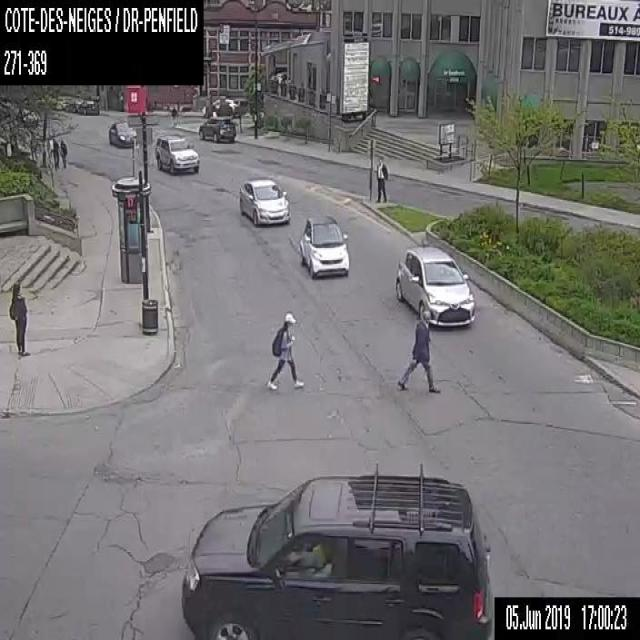pedestrian: (396, 309, 442, 395), (266, 310, 306, 390), (8, 280, 29, 356), (375, 158, 387, 202), (53, 139, 59, 169), (60, 139, 66, 167), (171, 106, 176, 126)
vehicle: (179, 460, 494, 639), (395, 243, 476, 327), (299, 214, 349, 279), (238, 176, 291, 225), (153, 134, 199, 174), (198, 114, 236, 142), (108, 119, 136, 148), (202, 94, 238, 116), (78, 98, 99, 115), (64, 97, 84, 112), (55, 95, 71, 108)
